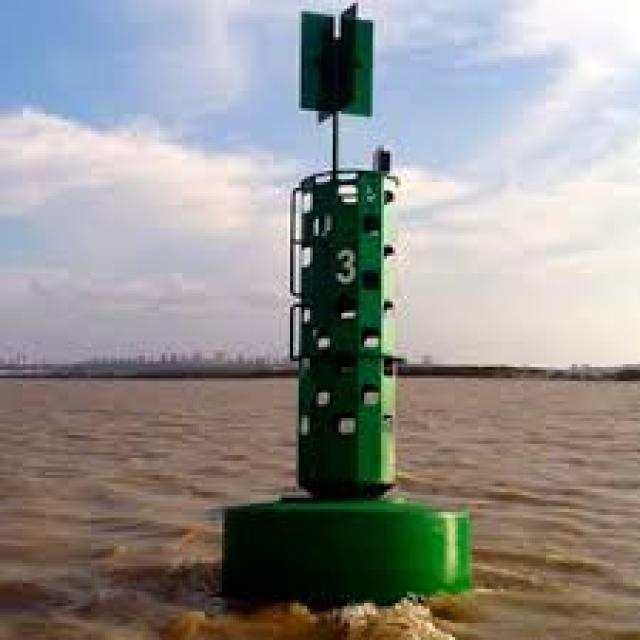buoy: (210, 1, 471, 610)
